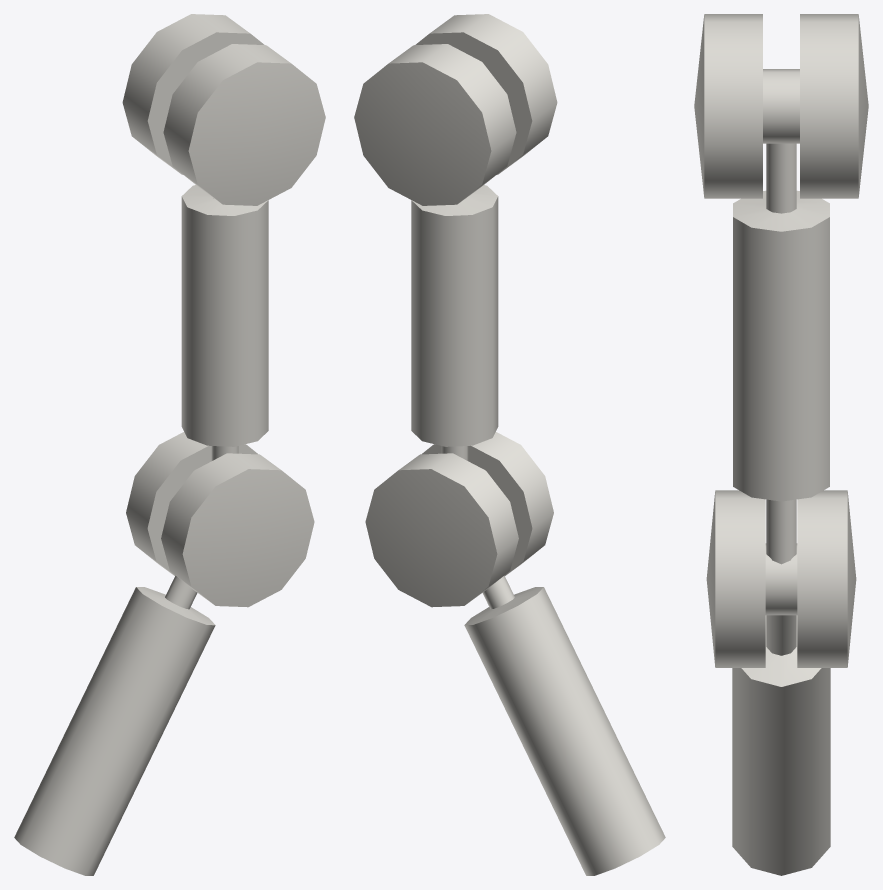
The model's file is sci3.glb.
The picture shows the model from 3 angles, left to right: view 1: azimuth 30°, elevation 25°; view 2: azimuth 150°, elevation 25°; view 3: azimuth 270°, elevation 25°; orthographic projection. The views are drawn at different scales.
Parts seen in each view (by area): view 1: node_id63, node_id57, node_id59, node_id61; view 2: node_id63, node_id57, node_id59, node_id61; view 3: node_id61, node_id63, node_id57, node_id59.
Boxes of the visible parts, x1,y1,x2,y2 form: node_id63: [122, 14, 325, 205]; node_id57: [14, 575, 215, 875]; node_id59: [126, 432, 314, 607]; node_id61: [181, 185, 268, 460]; node_id63: [354, 14, 557, 205]; node_id57: [464, 575, 665, 875]; node_id59: [365, 432, 553, 607]; node_id61: [411, 185, 498, 460]; node_id61: [733, 143, 829, 564]; node_id63: [694, 14, 868, 198]; node_id57: [732, 615, 830, 875]; node_id59: [706, 490, 856, 667].
Size of the model in its own units: 0.1829 by 0.512 by 0.0869.
Materials: 4 (4 with a texture image).
